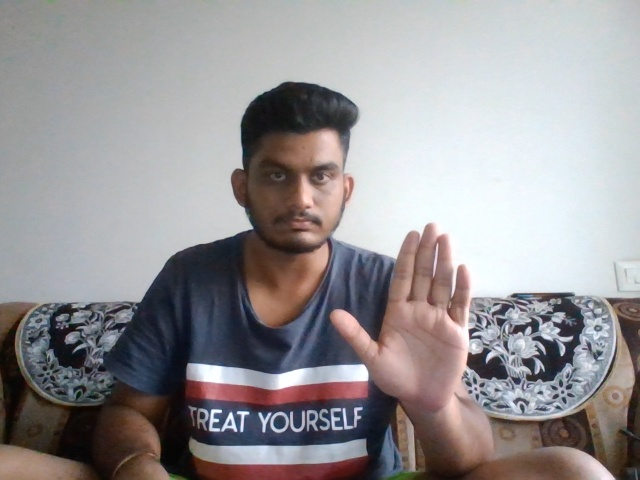Hello: (331, 207, 492, 407)
